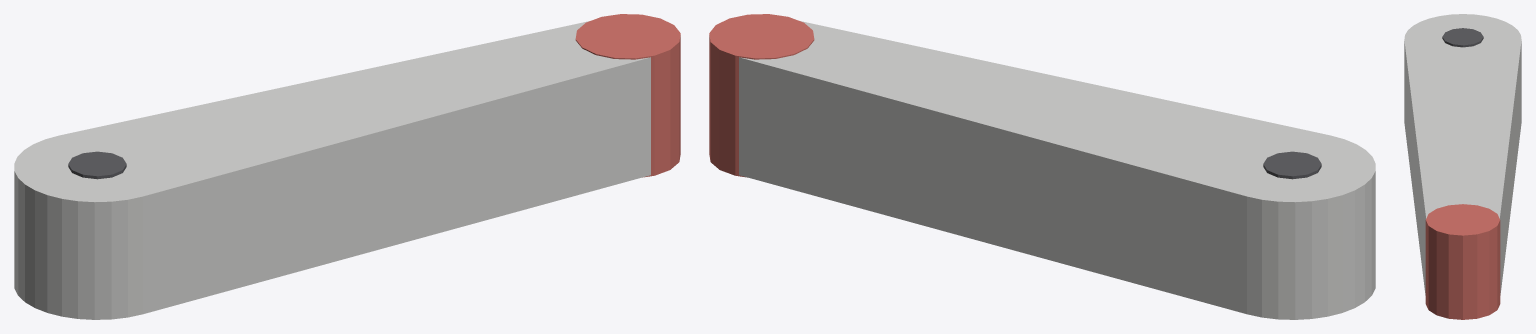
File: Pinball_Flipper.glb
3 views of the same model, side by side, from view 1: azimuth 30°, elevation 25°; view 2: azimuth 150°, elevation 25°; view 3: azimuth 270°, elevation 25° (orthographic). The views are drawn at different scales.
Parts seen in each view (by area): view 1: Bat, Tip, Pin; view 2: Bat, Tip, Pin; view 3: Bat, Tip, Pin.
Boxes of the visible parts, x1,y1,x2,y2 form: Bat: (14,21,650,319); Tip: (575,14,680,177); Pin: (68,151,126,179); Bat: (739,21,1375,319); Tip: (709,14,814,177); Pin: (1263,151,1321,179); Bat: (1404,14,1521,295); Tip: (1425,204,1500,319); Pin: (1442,28,1483,47).
Bounding box in the file's own units: 0.113 × 0.0206 × 0.0252.
